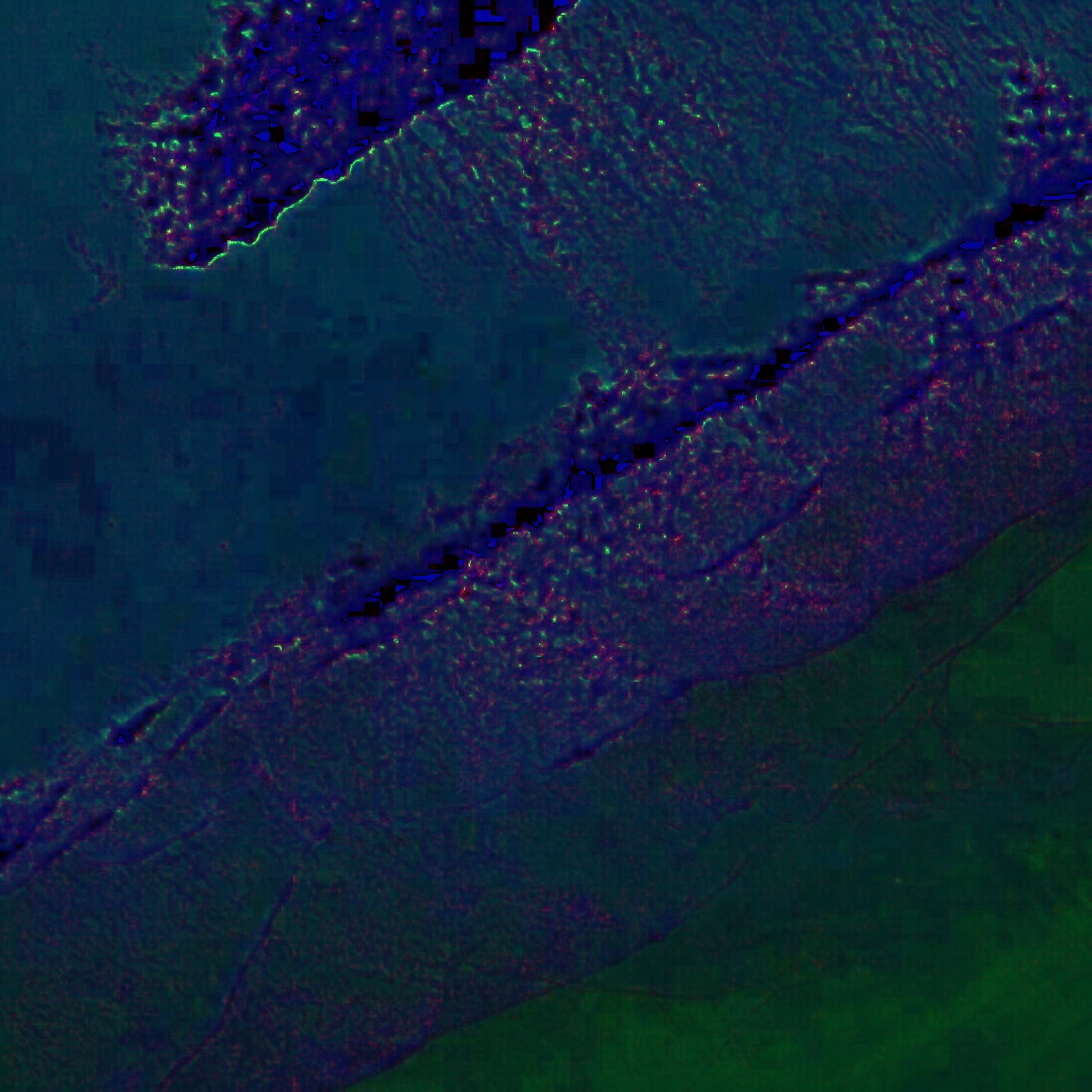rip_current: (136, 633, 758, 930)
